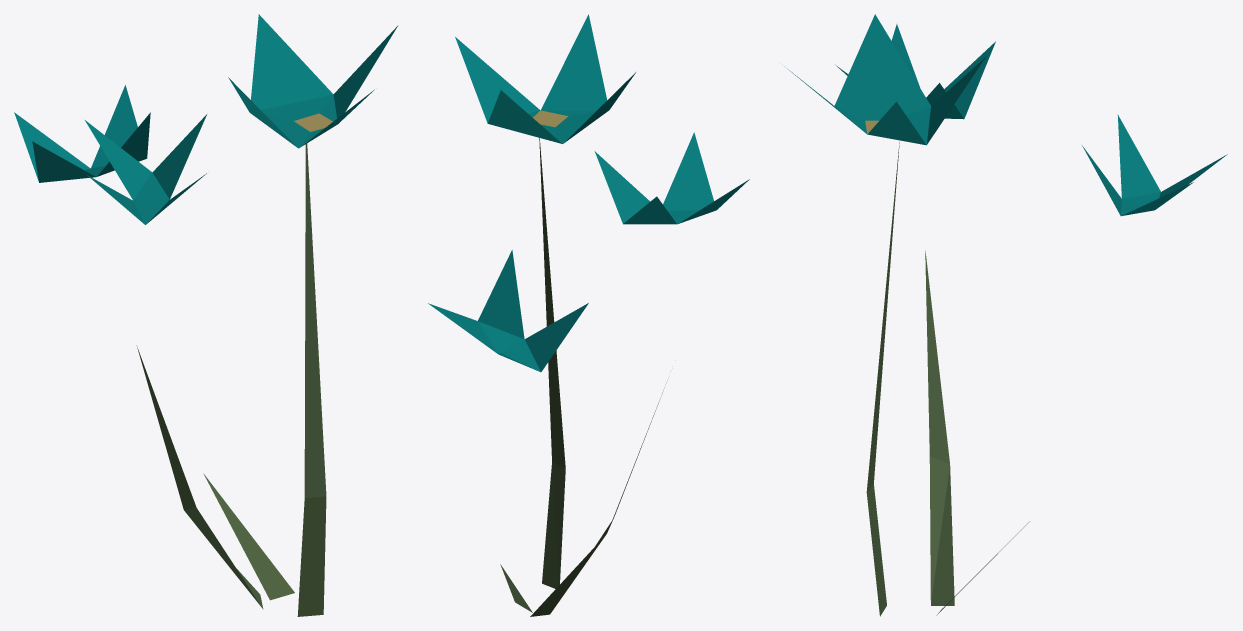
File: qn_flowers.glb
The picture shows the model from 3 angles, left to right: view 1: azimuth 30°, elevation 25°; view 2: azimuth 150°, elevation 25°; view 3: azimuth 270°, elevation 25°; orthographic projection. The views are drawn at different scales.
Visible parts, largest first — view 1: qn_flowers; view 2: qn_flowers; view 3: qn_flowers.
Part boxes in pixels (x1=…): qn_flowers: x1=14, y1=14, x2=398, y2=616; qn_flowers: x1=428, y1=14, x2=749, y2=616; qn_flowers: x1=784, y1=14, x2=1227, y2=616.
Bounding box in the file's own units: 0.4767 × 0.8289 × 0.6022.
